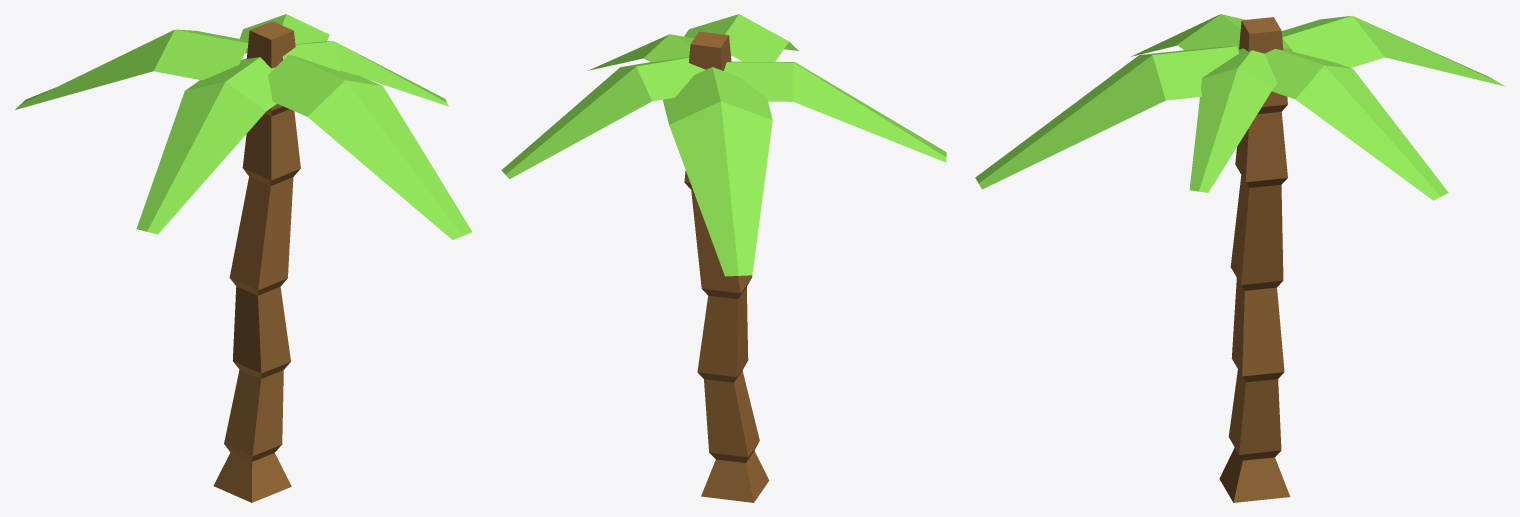
Rendered from palmera.fbx.
3 renders of one model, left to right at view 1: azimuth 30°, elevation 25°; view 2: azimuth 150°, elevation 25°; view 3: azimuth 270°, elevation 25°, orthographic. The views are drawn at different scales.
Visible parts, largest first — view 1: Cube.151; view 2: Cube.151; view 3: Cube.151.
Part boxes in pixels (<box>): Cube.151: <box>15,14,472,502</box>; Cube.151: <box>501,14,946,502</box>; Cube.151: <box>975,14,1505,502</box>.
Size of the model in its own units: 1108 by 1417 by 1438.
